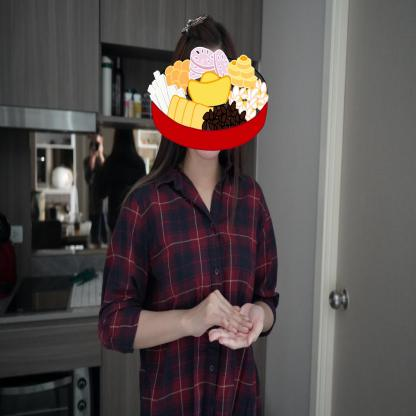Love: (167, 285, 268, 354)
